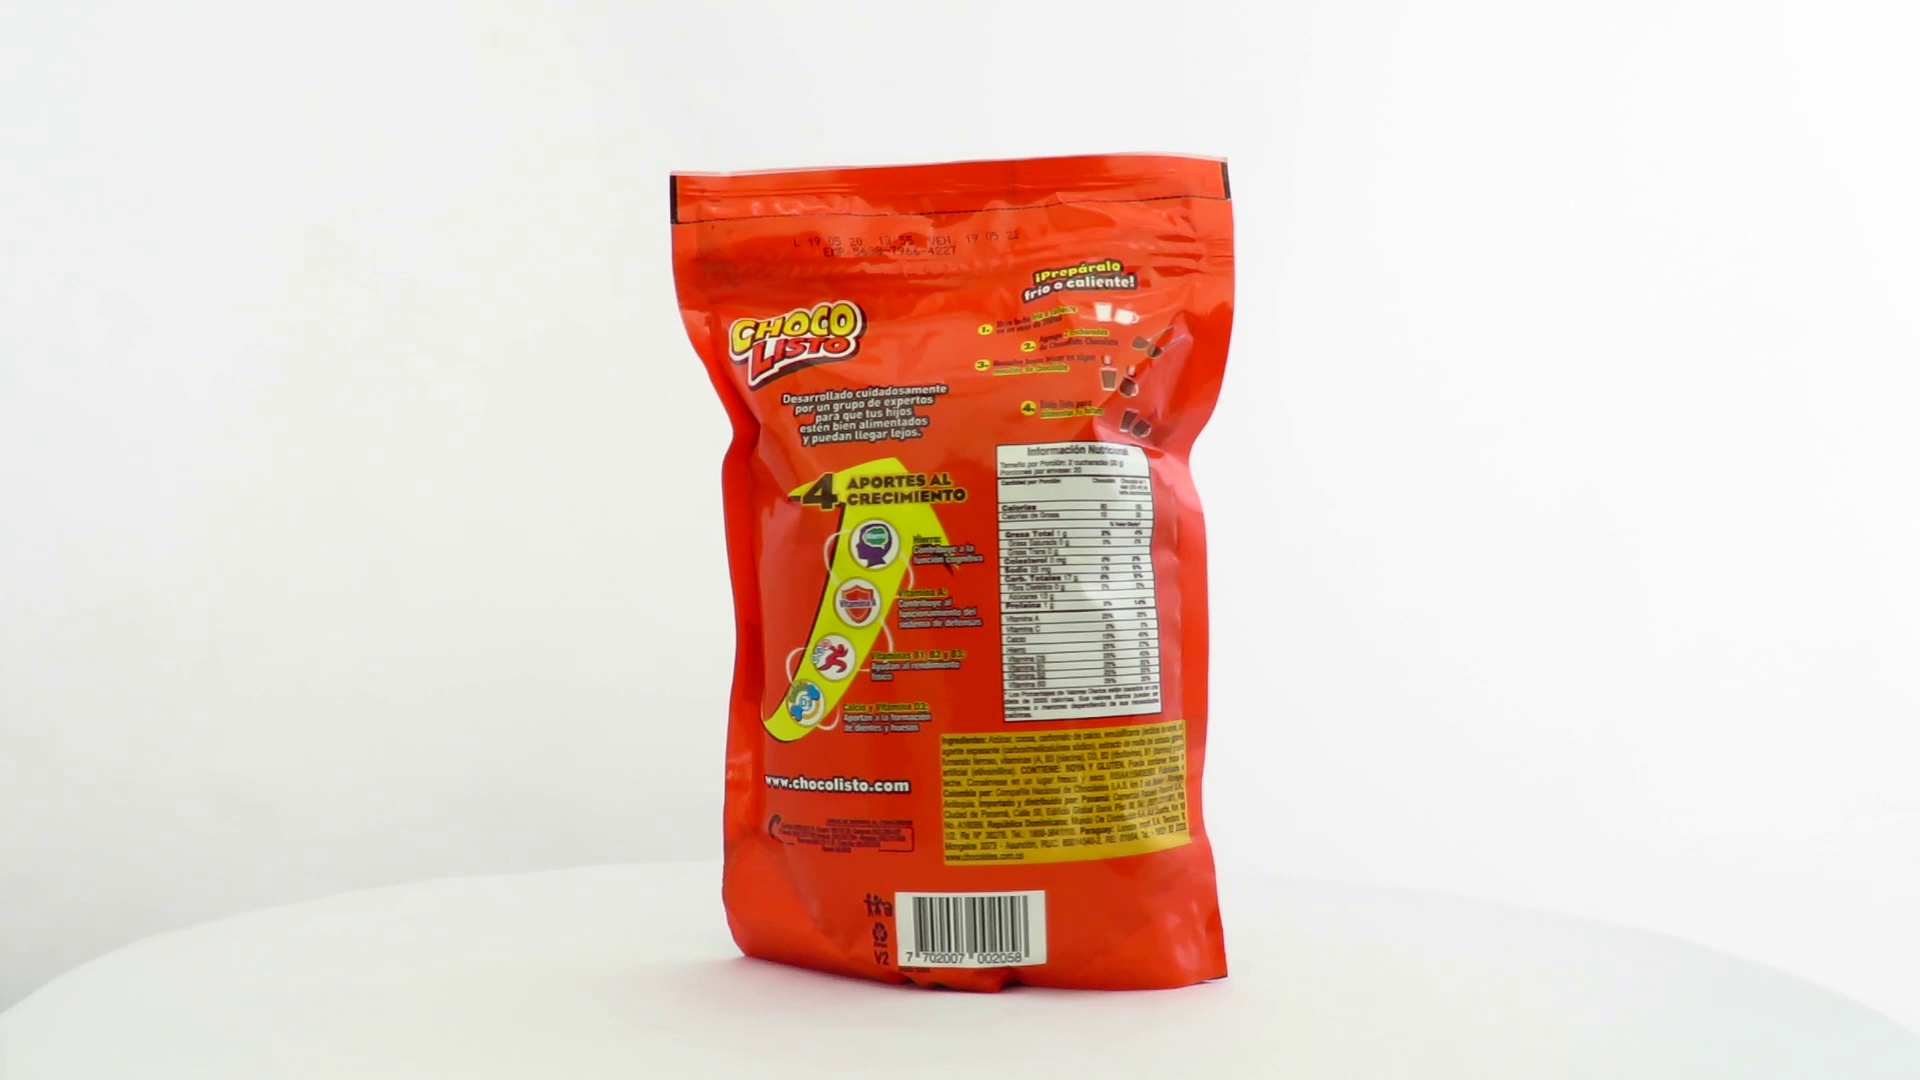COL0170103DYP40000: (665, 146, 1241, 1000)
